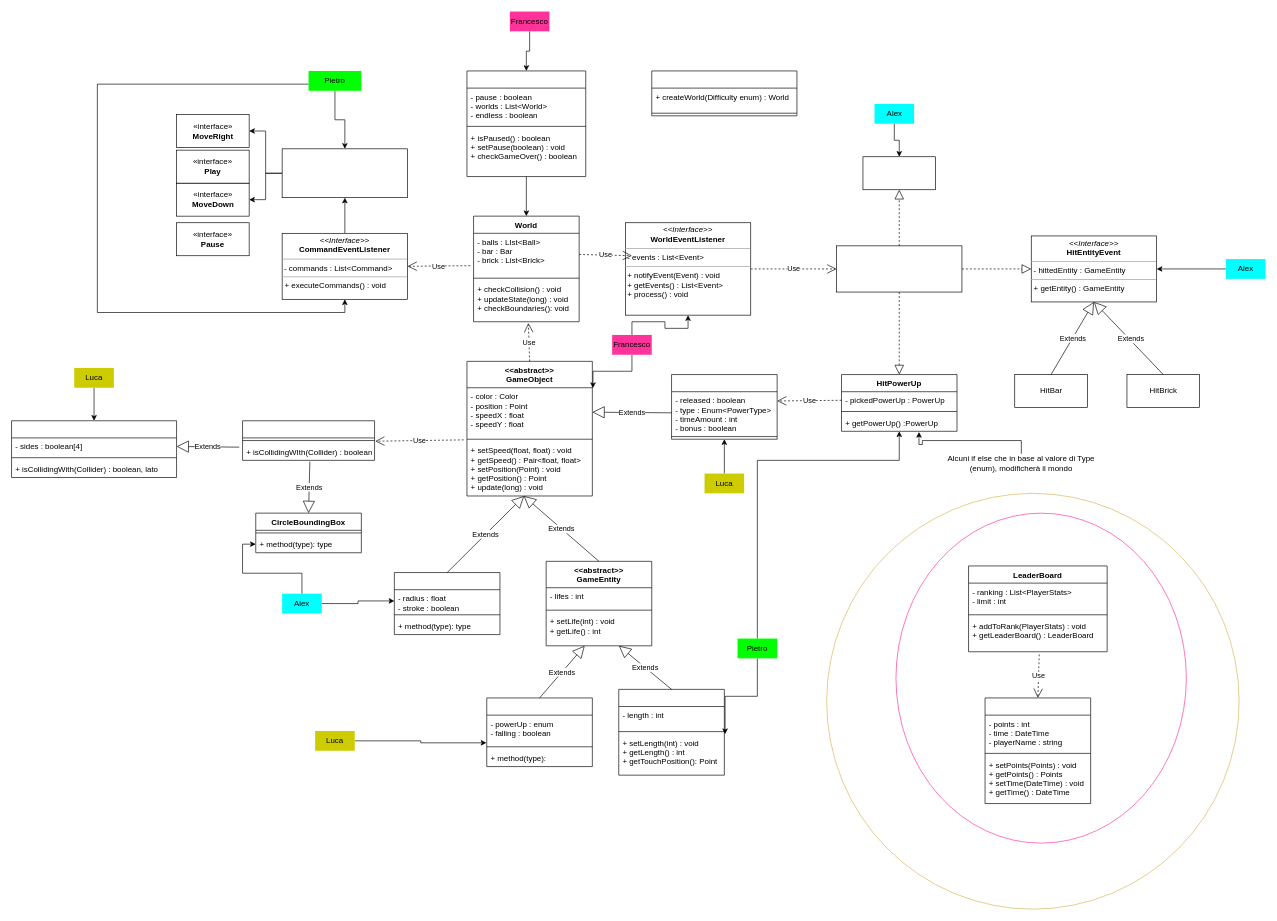
The diagram is 1277 pixels wide and 921 high, and some of its shapes have lost their labels. Each missing label, with the box of its shape:
<<Interface>> Command + execute(World) : void: (281, 148, 408, 198)
<<Interface>> Event + process(World) : void: (836, 245, 962, 292)
Ball: (394, 572, 500, 635)
Bar: (618, 689, 724, 775)
BoundingBox: (242, 420, 375, 460)
Brick: (486, 697, 592, 767)
GameState: (466, 70, 586, 177)
HitBorderEvent: (862, 156, 936, 190)
PlayerStats: (984, 697, 1091, 804)
PowerUp: (671, 374, 777, 439)
RectBoundingBox: (11, 420, 177, 478)
WorldFactory: (651, 70, 797, 116)
